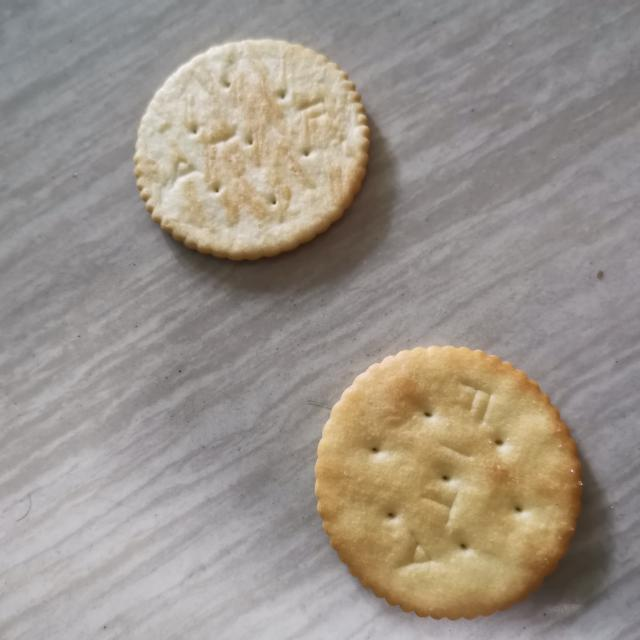Intact: (305, 333, 606, 630), (119, 21, 383, 276)
